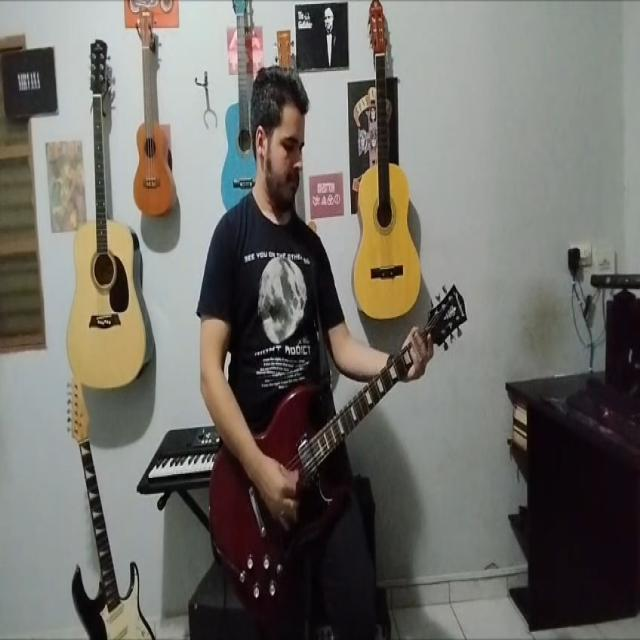acousticguitar: (68, 35, 150, 391), (352, 0, 419, 324), (221, 2, 264, 216)
guitar: (207, 285, 461, 631), (69, 378, 155, 639)
